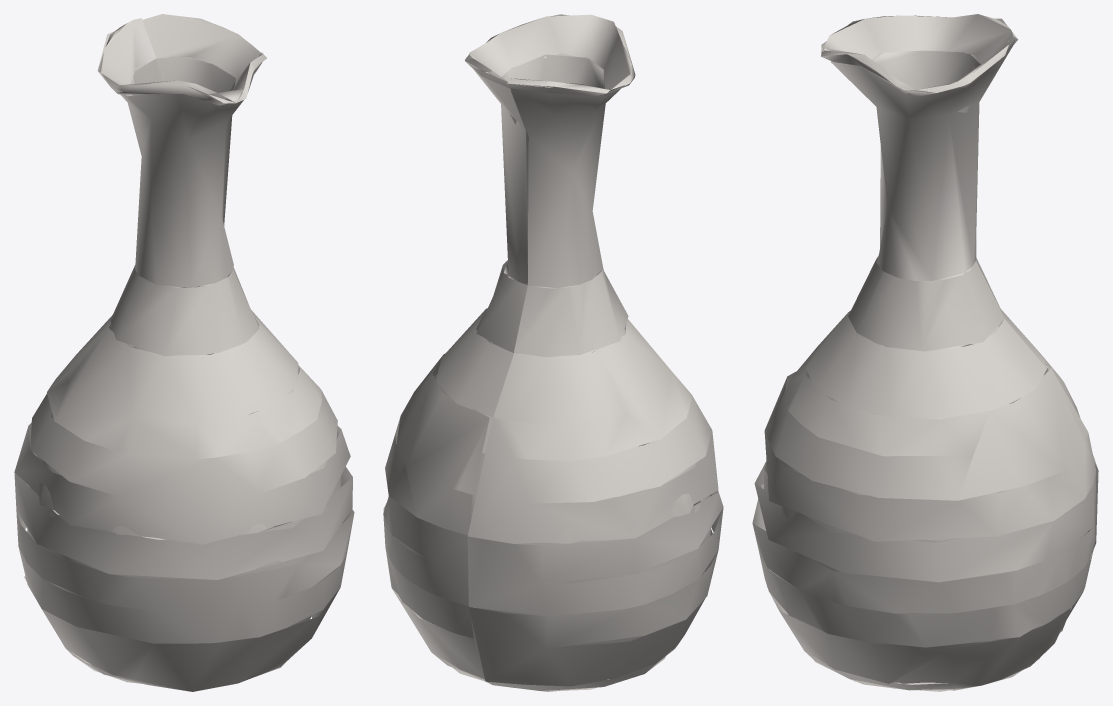
File: ceramic_vase_01.glb
3 views of the same model, side by side, from view 1: azimuth 30°, elevation 25°; view 2: azimuth 150°, elevation 25°; view 3: azimuth 270°, elevation 25° (orthographic). The views are drawn at different scales.
Parts seen in each view (by area): view 1: ceramic_vase_01; view 2: ceramic_vase_01; view 3: ceramic_vase_01.
Part boxes in pixels (<box>): ceramic_vase_01: <box>14,14,354,691</box>; ceramic_vase_01: <box>383,14,723,691</box>; ceramic_vase_01: <box>752,14,1098,691</box>.
Size of the model in its own units: 0.2063 by 0.4017 by 0.2058.
Materials: 1 (1 with a texture image).
